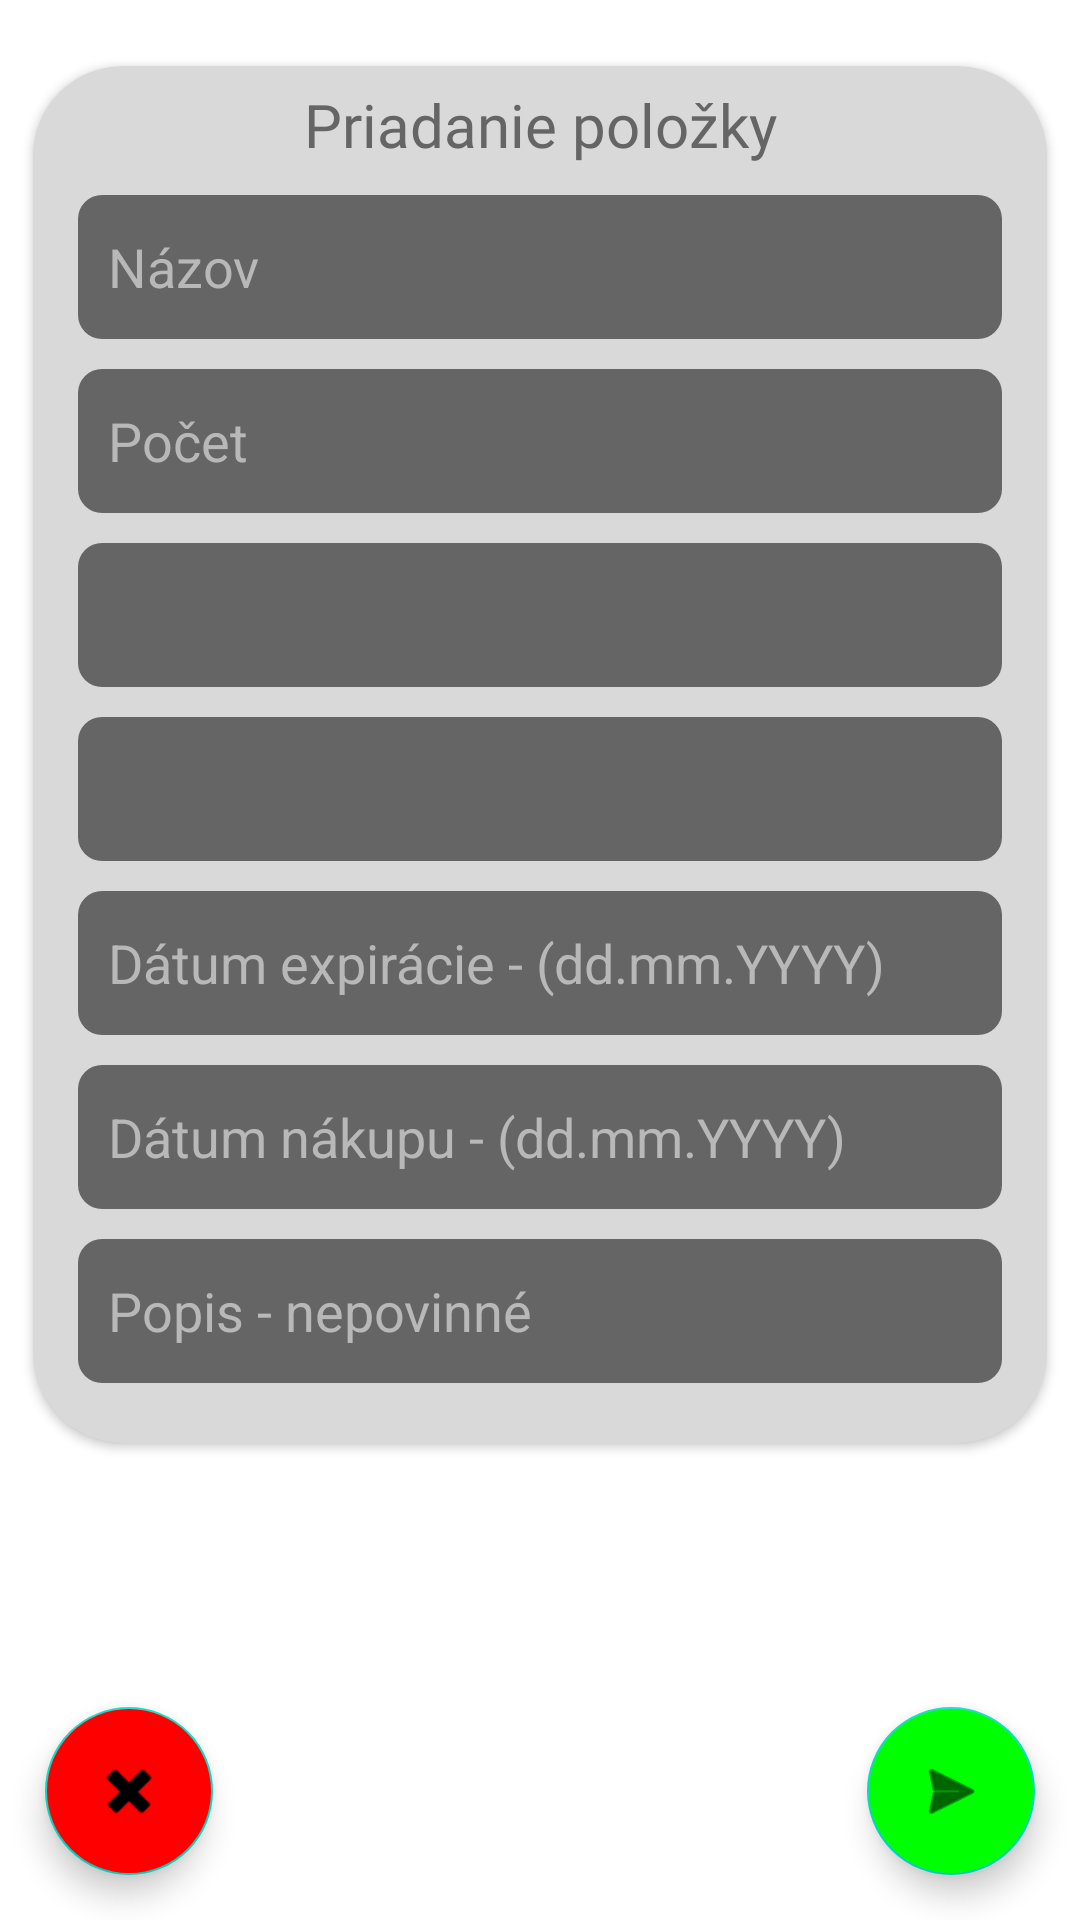

Icons on this 1080×1920 Android screen, each with the point to tap as point (x, y):
delete: point (129, 1791)
send: point (951, 1791)
